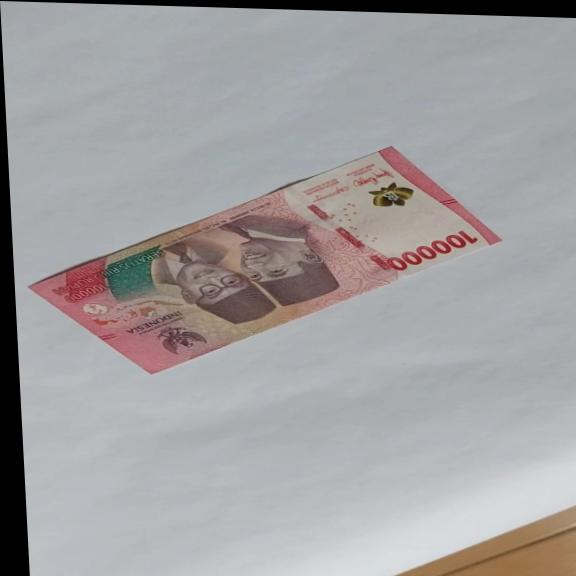Kertas: (17, 134, 510, 385), (379, 227, 481, 273)
